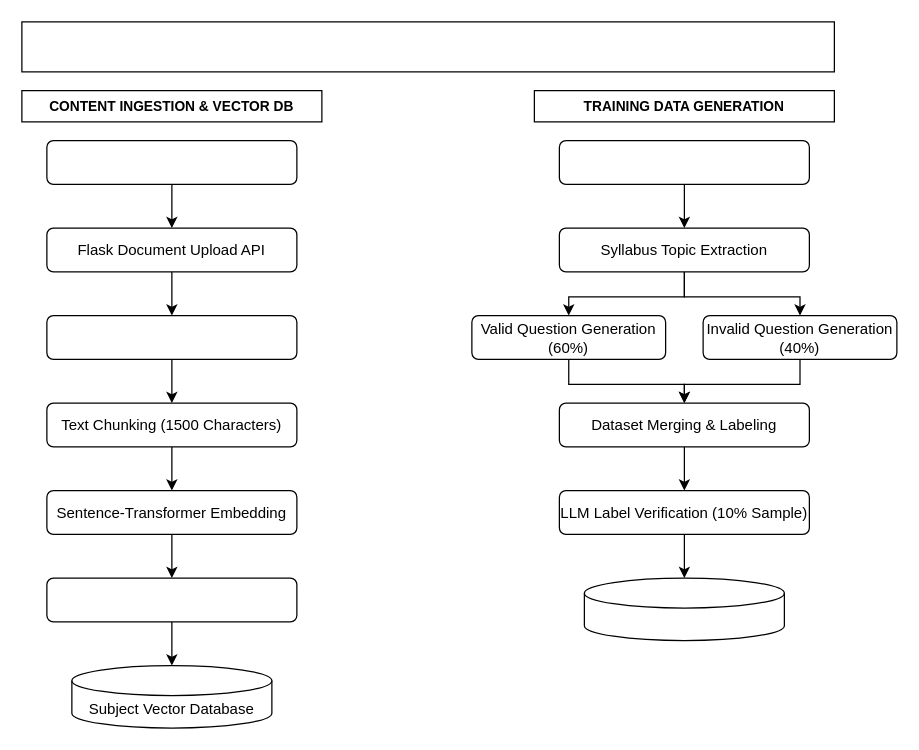
This 919x750 diagram has some shape labels left out. Each missing label, with the centre of its shape:
"ACADEMIC CONTENT INGESTION, PREPROCESSING & TRAINING DATA GENERATION" belongs at pixel 427 46.
"FAISS Index Construction" belongs at pixel 171 599.
"Labeled Training Dataset" belongs at pixel 683 609.
"PDF Text Extraction (PyPDF2)" belongs at pixel 171 336.
"PDF Textbooks & Faculty Notes" belongs at pixel 171 161.
"Subject Syllabus (JSON)" belongs at pixel 683 161.
